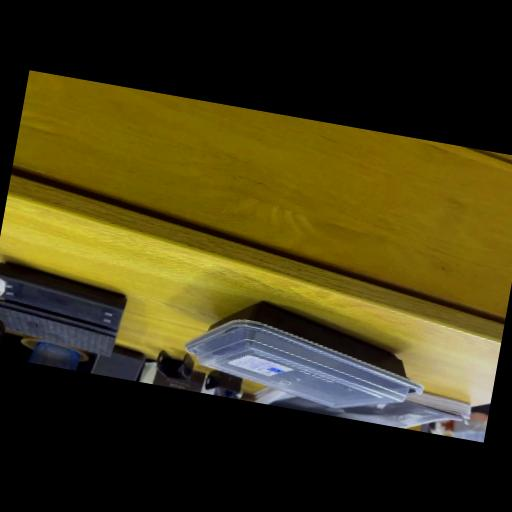rigid_plastic_container: (182, 288, 433, 423)
